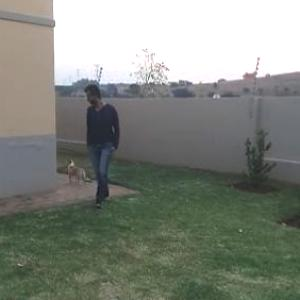follow: (80, 79, 118, 210)
